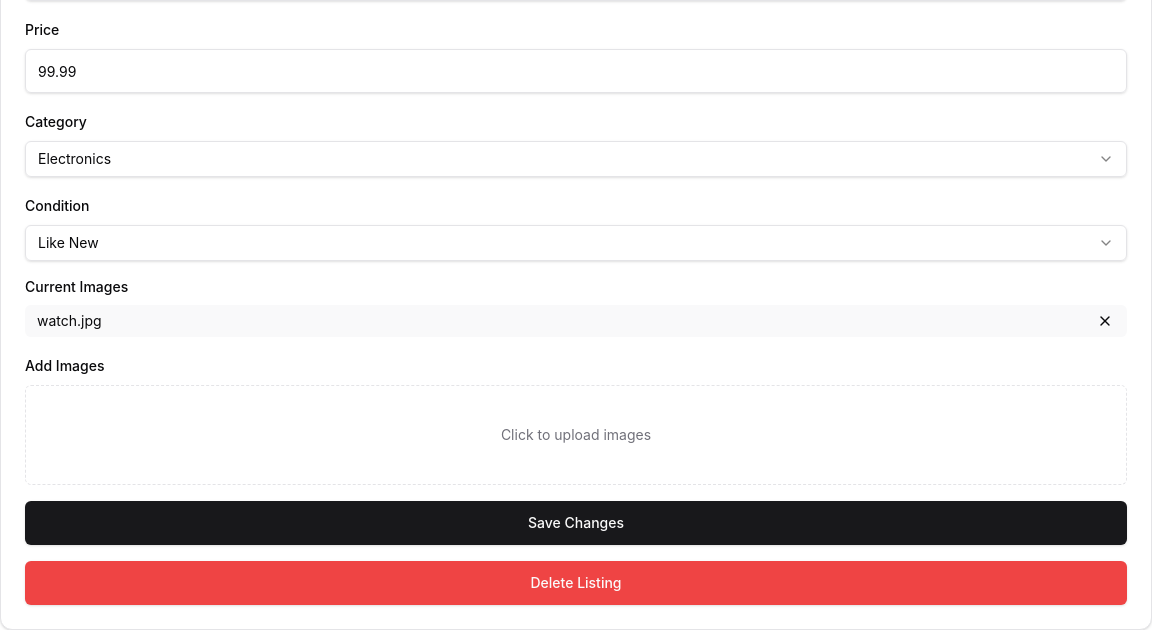
Test: CreateListingForm › edit mode › shows loading state during edit submission
The width and height of the screenshot is (1152, 630).
(page scrolled)
Click the button "Save Changes": (576, 523) x1=25 y1=501 x2=1127 y2=545
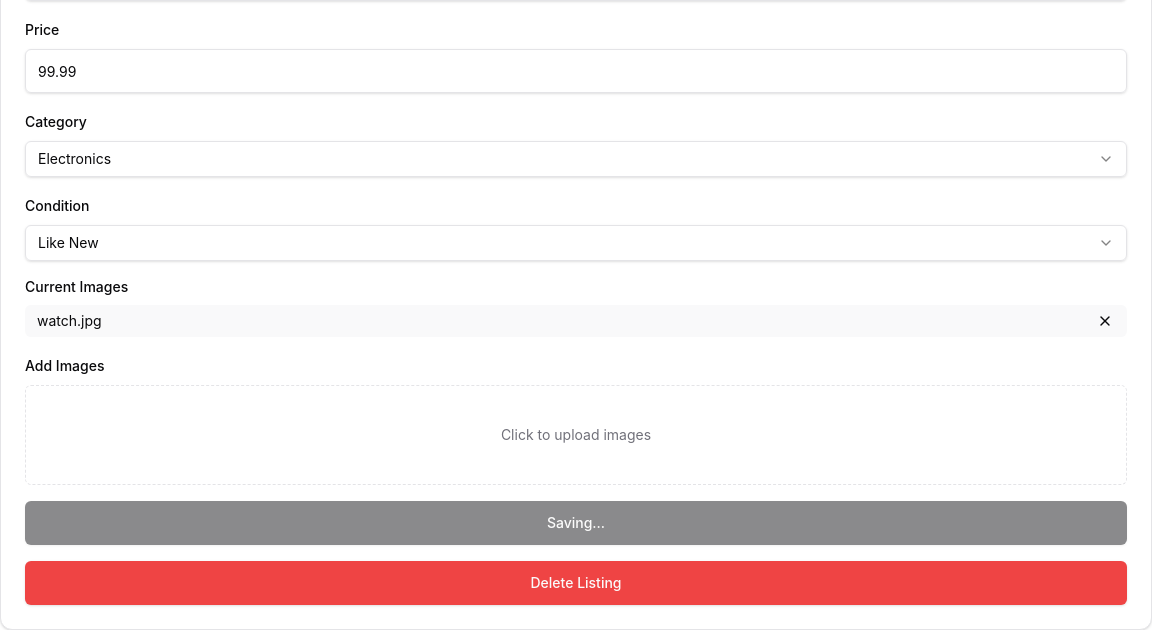
Expected: the button "Saving..." is disabled, x1=25 y1=501 x2=1127 y2=545
